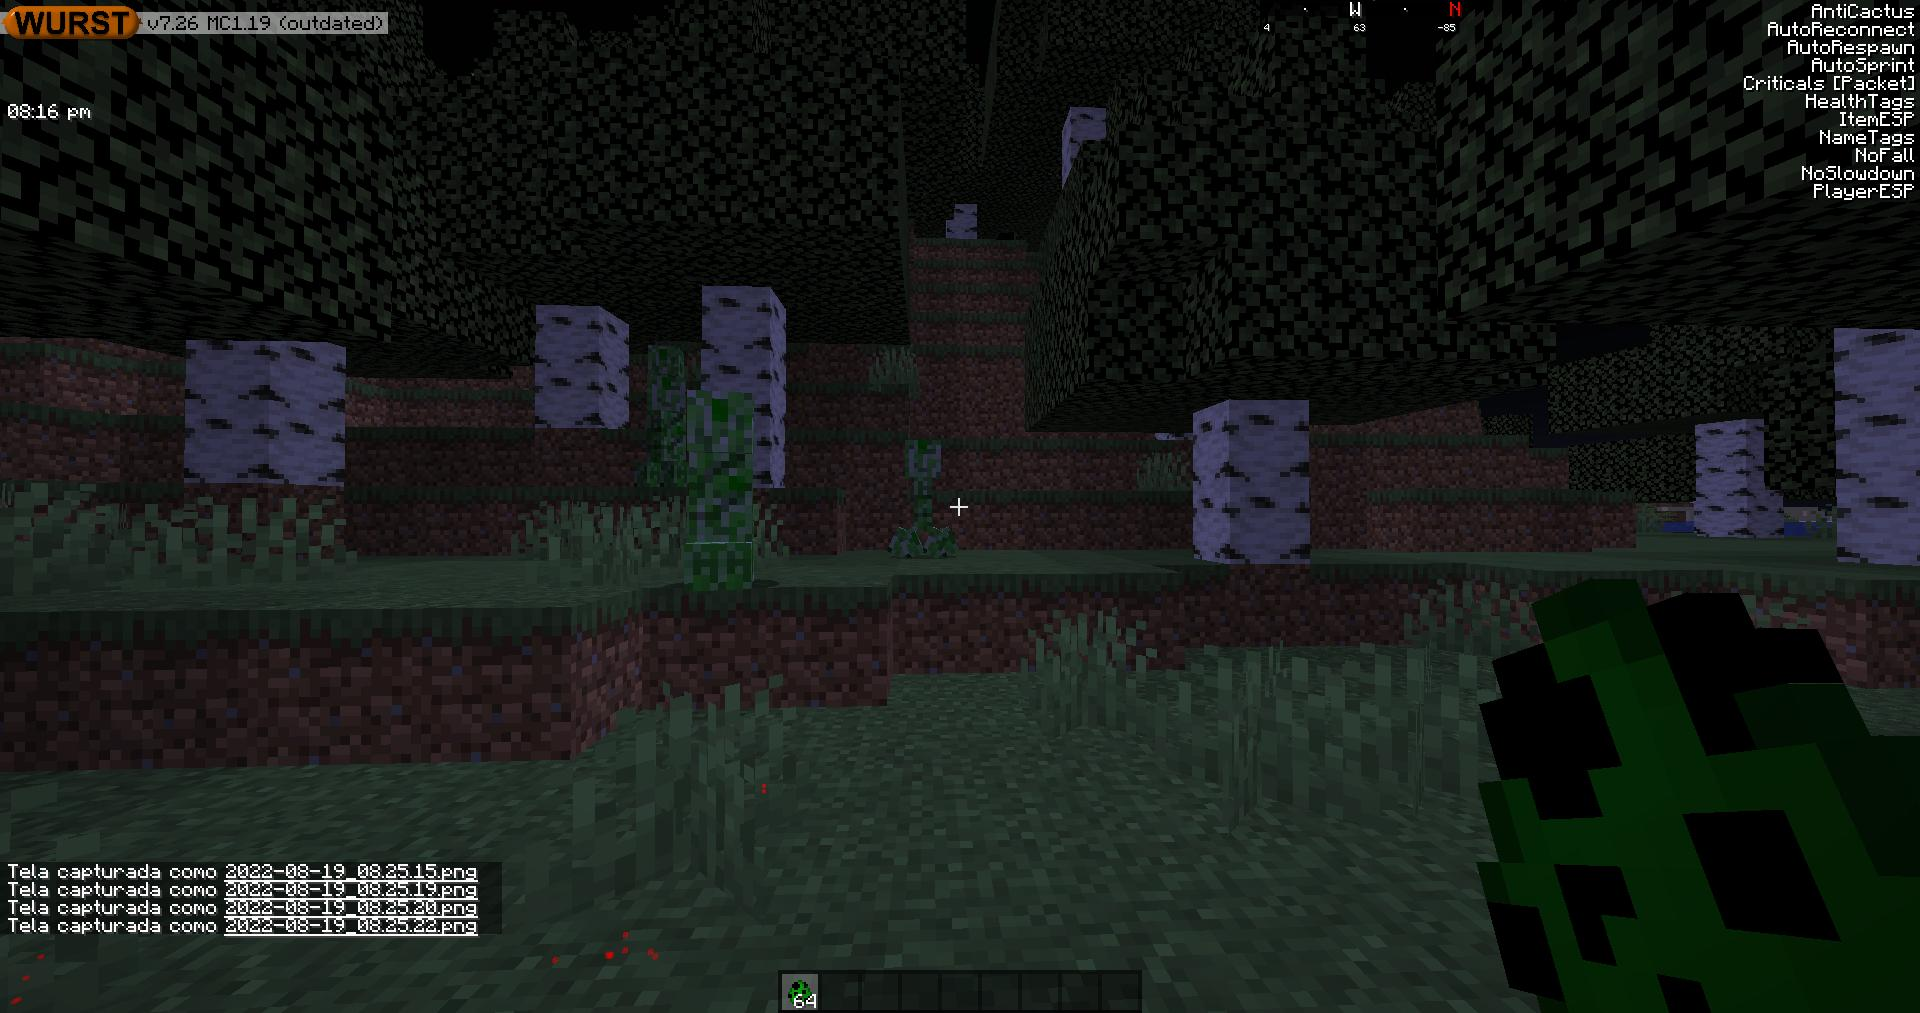creeper: (682, 386, 756, 578), (902, 435, 952, 565), (643, 373, 688, 486)
